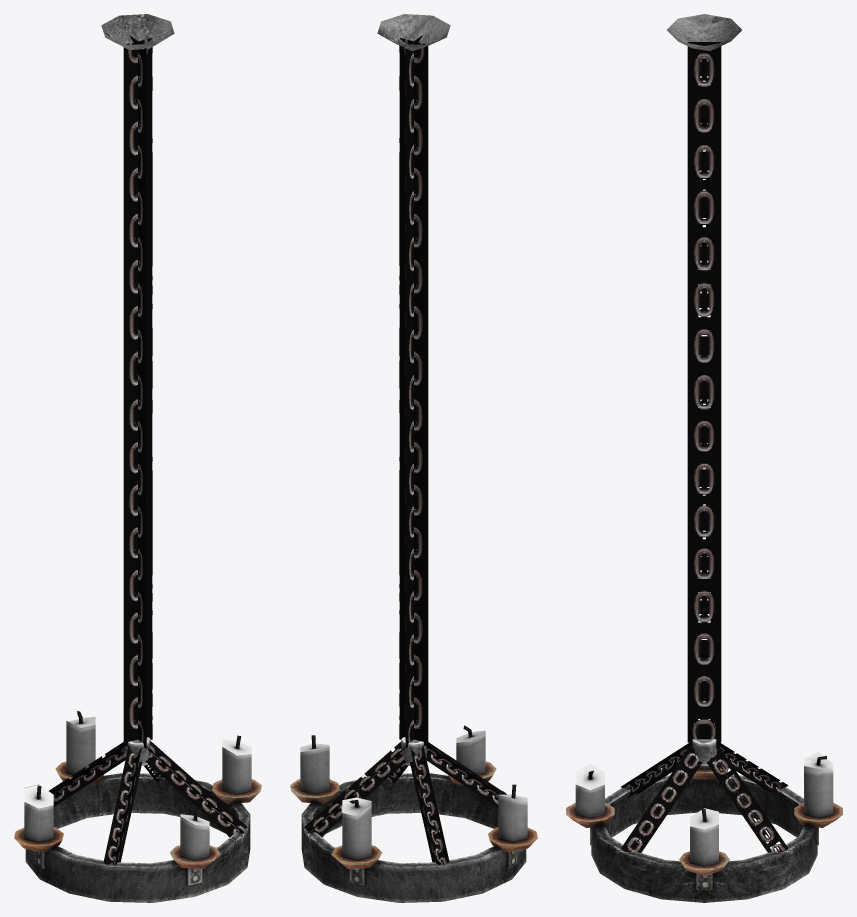
File: chandelier_simple.dae
The picture shows the model from 3 angles, left to right: view 1: azimuth 30°, elevation 25°; view 2: azimuth 150°, elevation 25°; view 3: azimuth 270°, elevation 25°; orthographic projection.
Visible parts, largest first — view 1: polySurface41, polySurface40, polySurface3; view 2: polySurface41, polySurface40, polySurface3; view 3: polySurface41, polySurface40, polySurface3.
Boxes of the visible parts, <box> form: polySurface41: <box>14,711,261,902</box>; polySurface40: <box>123,35,152,748</box>; polySurface3: <box>101,14,174,49</box>; polySurface41: <box>290,725,537,902</box>; polySurface40: <box>399,35,428,748</box>; polySurface3: <box>377,14,450,50</box>; polySurface41: <box>566,719,842,902</box>; polySurface40: <box>687,42,721,742</box>; polySurface3: <box>667,14,741,51</box>.
Bounding box in the file's own units: 1.22 × 4.02 × 1.22.
